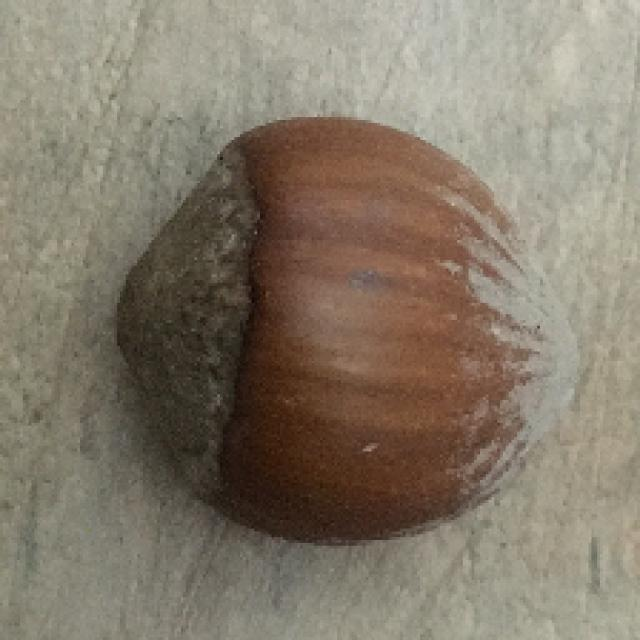qualityHazelnut: (103, 117, 588, 554)
